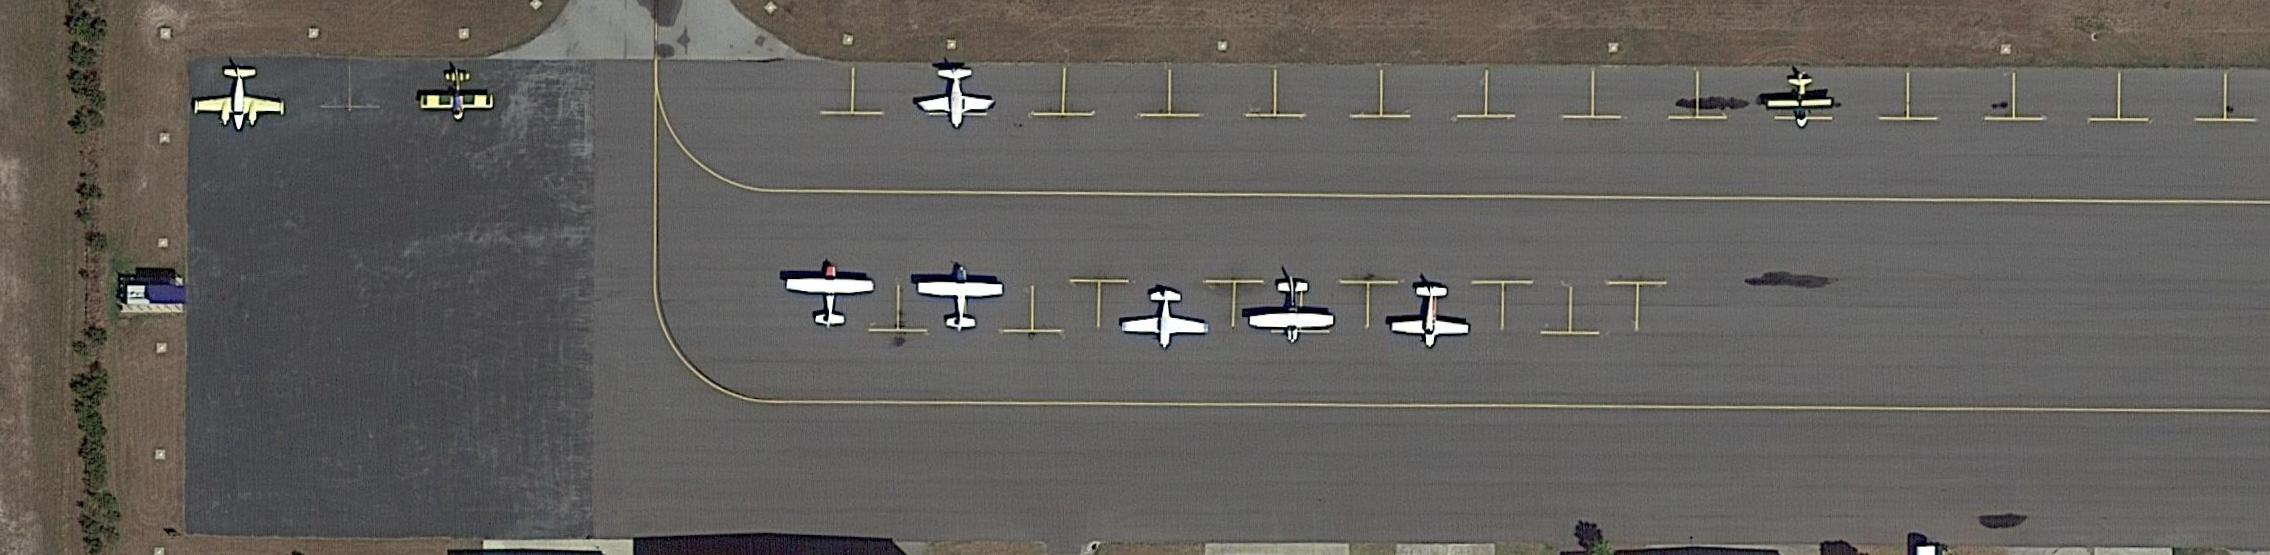plane: (916, 264, 1005, 333), (1246, 277, 1338, 343), (785, 262, 874, 329), (1121, 285, 1210, 351), (195, 67, 285, 132), (1388, 283, 1474, 351), (916, 67, 997, 130), (1765, 72, 1833, 130), (420, 70, 495, 122)
